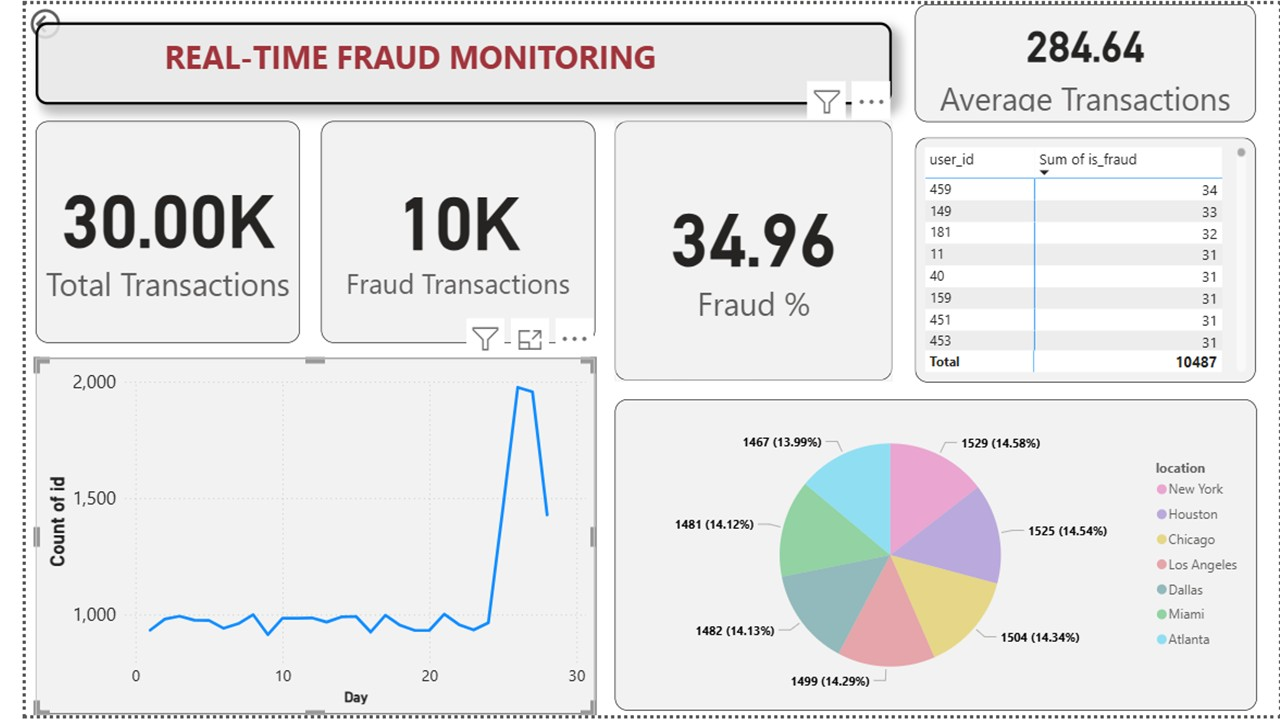

What the dashboard file says about the page in this screenshot:
{"tool":"powerbi","page":{"name":"Page 1","canvas":[1280,720],"ordinal":0},"visuals":[{"type":"card","fields":{"Values":["CountNonNull(fraud_db transactions.id)"]},"box":[9.4,119.1,270.2,224.9],"z":0},{"type":"actionButton","box":[0,0,100,40],"z":1000},{"type":"card","title":"fraud","fields":{"Values":["Sum(fraud_db transactions.is_fraud)"]},"box":[302.4,119.1,279.7,224.9],"z":2000},{"type":"lineChart","fields":{"Y":["CountNonNull(fraud_db transactions.id)"],"Category":["fraud_db transactions.timestamp.Variation.Date Hierarchy.Day"]},"box":[9.4,359.1,572.6,360.9],"z":3000},{"type":"textbox","box":[9.4,18.9,875,83.2],"z":4000},{"type":"card","fields":{"Values":["fraud_db transactions.Fraud %"]},"box":[600.9,119.1,283.5,262.7],"z":5000},{"type":"pieChart","fields":{"Category":["fraud_db transactions.location"],"Y":["Sum(fraud_db transactions.is_fraud)"]},"box":[600.9,400.6,655.8,315.6],"z":6000},{"type":"pivotTable","fields":{"Rows":["fraud_db transactions.user_id"],"Values":["Sum(fraud_db transactions.is_fraud)"]},"box":[908.4,134.4,348.1,247.7],"z":7000},{"type":"card","fields":{"Values":["Avg(fraud_db transactions.amount)"]},"box":[909,0,347.7,119.1],"z":7001}]}

Visuals, with their boxes in screenshot pixels (x1, y1, x2, y2), scaled from the page's 1280x720 canvas onto the 1280x720 screenshot:
card - CountNonNull(fraud_db transactions.id): bbox=(9, 119, 280, 344)
actionButton: bbox=(0, 0, 100, 40)
"fraud" card: bbox=(302, 119, 582, 344)
lineChart - CountNonNull(fraud_db transactions.id) x fraud_db transactions.timestamp.Variation.Date Hierarchy.Day: bbox=(9, 359, 582, 719)
textbox: bbox=(9, 19, 884, 102)
card - fraud_db transactions.Fraud %: bbox=(601, 119, 884, 382)
pieChart - fraud_db transactions.location x Sum(fraud_db transactions.is_fraud): bbox=(601, 401, 1257, 716)
pivotTable - fraud_db transactions.user_id x Sum(fraud_db transactions.is_fraud): bbox=(908, 134, 1256, 382)
card - Avg(fraud_db transactions.amount): bbox=(909, 0, 1257, 119)
